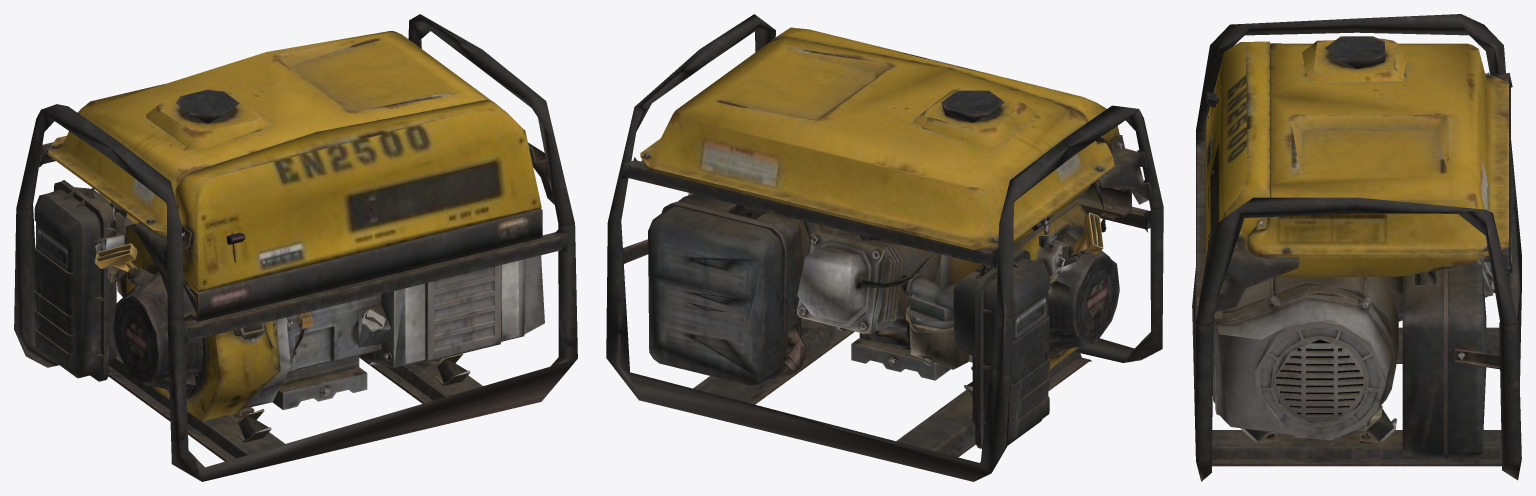
Rendered from portable_generator.glb.
3 views of the same model, side by side, from view 1: azimuth 30°, elevation 25°; view 2: azimuth 150°, elevation 25°; view 3: azimuth 270°, elevation 25° (orthographic).
Visible parts, largest first — view 1: Cube023; view 2: Cube023; view 3: Cube023.
Boxes of the visible parts, left/top/right/bottom form: Cube023: left=14, top=14, right=577, bottom=481; Cube023: left=606, top=14, right=1163, bottom=481; Cube023: left=1192, top=14, right=1521, bottom=481.
Size of the model in its own units: 0.8146 by 0.5752 by 0.5591.
5 materials, 5 textured.
